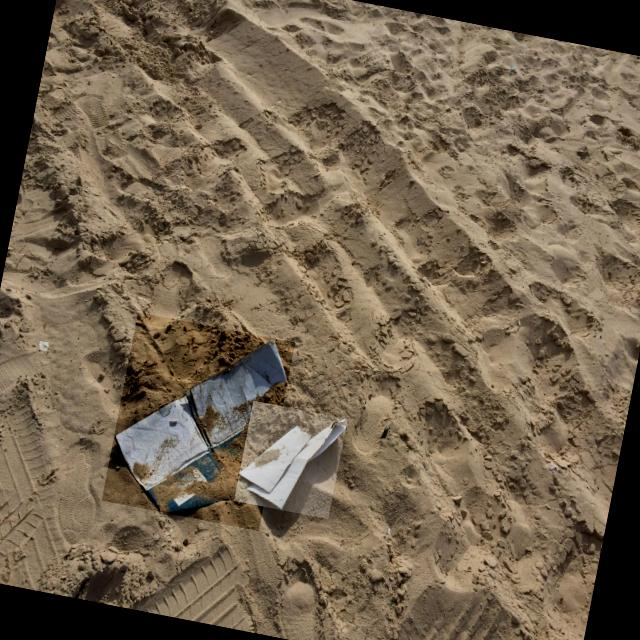Other Carton: (115, 339, 288, 514), (239, 419, 347, 510)
Unlabeled litter: (39, 342, 48, 350), (387, 527, 390, 535)
